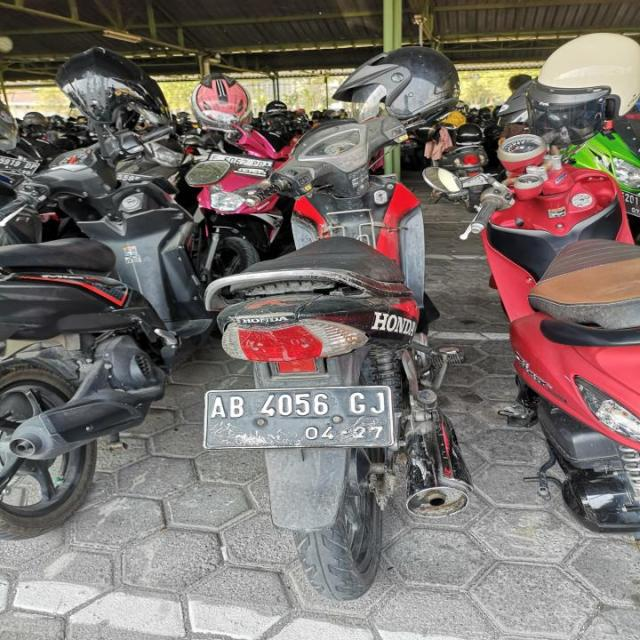License Plate: (198, 382, 396, 453), (206, 150, 274, 178)
